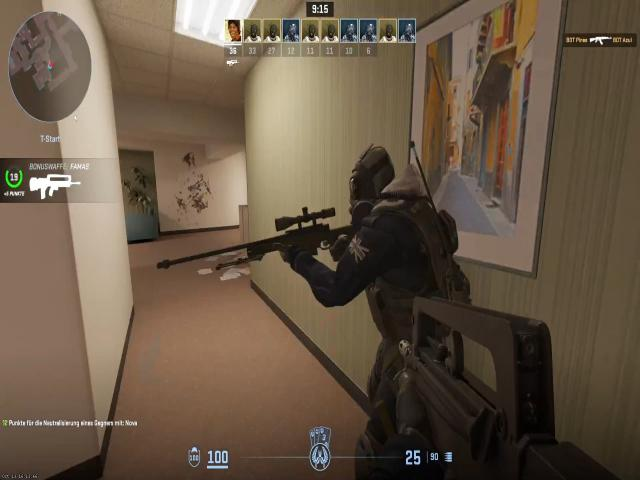CT: (338, 128, 434, 334)
CT-Head: (342, 140, 408, 230)
